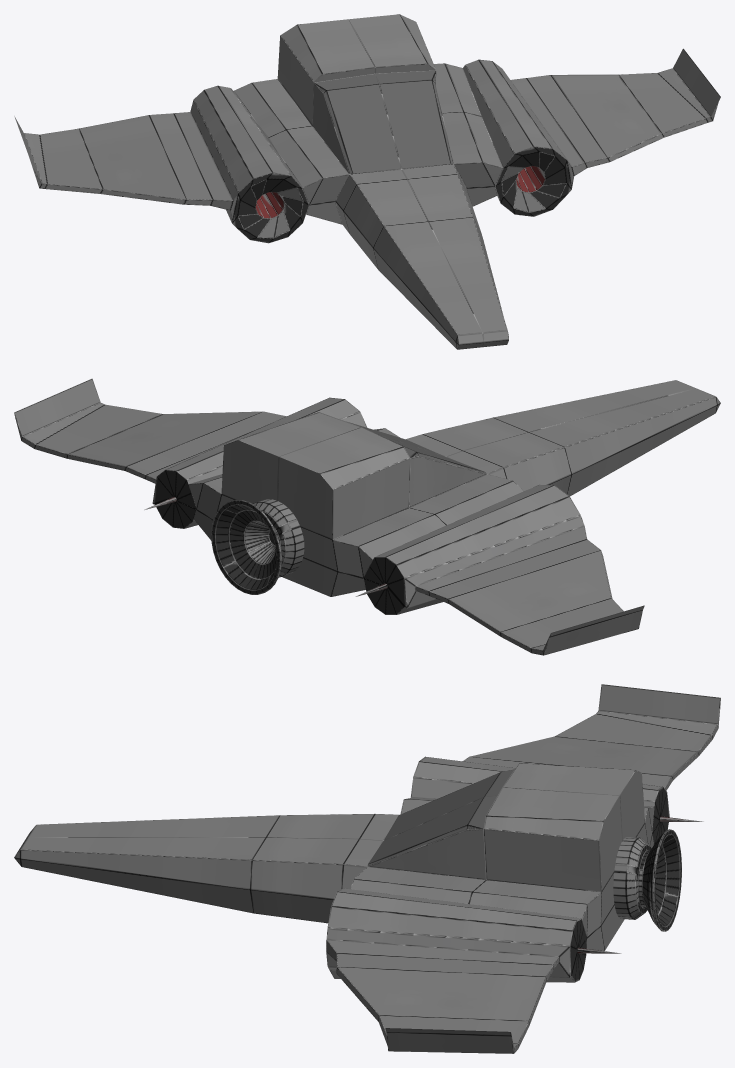
The model's file is ship.gltf.
3 renders of one model, top to bottom at view 1: azimuth 30°, elevation 25°; view 2: azimuth 150°, elevation 25°; view 3: azimuth 270°, elevation 25°, orthographic. The views are drawn at different scales.
Visible parts, largest first — view 1: Cube.001; view 2: Cube.001; view 3: Cube.001.
Part boxes in pixels (x1,y1,x2,y2): Cube.001: (14,14,720,349); Cube.001: (14,378,720,655); Cube.001: (14,684,720,1053).
Size of the model in its own units: 19.91 by 3.99 by 17.28.
1 material, 1 textured.
